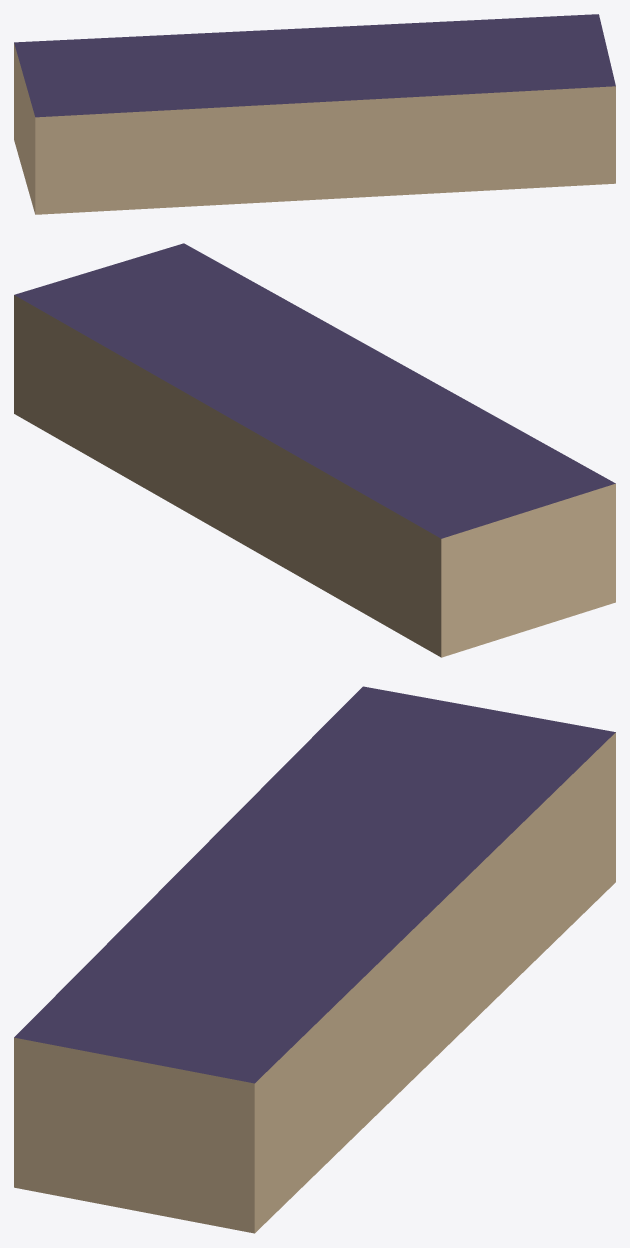
The picture shows the model from 3 angles, top to bottom: view 1: azimuth 30°, elevation 25°; view 2: azimuth 150°, elevation 25°; view 3: azimuth 270°, elevation 25°; orthographic projection. The views are drawn at different scales.
Parts seen in each view (by area): view 1: campus/b-061-0; view 2: campus/b-061-0; view 3: campus/b-061-0.
Part boxes in pixels (bbox=[...]): campus/b-061-0: bbox=[14, 14, 615, 214]; campus/b-061-0: bbox=[14, 243, 615, 657]; campus/b-061-0: bbox=[14, 686, 615, 1233].
Bounding box in the file's own units: 17.03 × 3 × 10.91.
